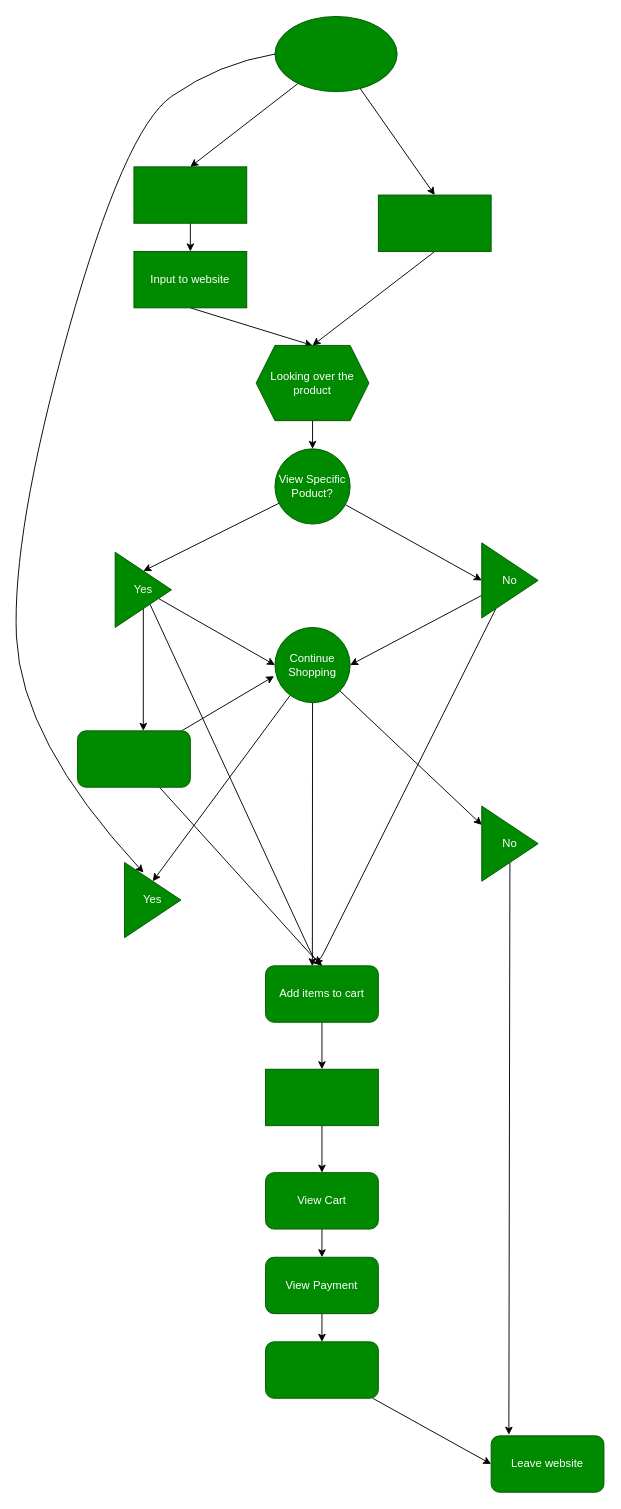
Image size: 621x1509. Some labels were removed from this diagram. Each missing label, with the centre of its shape:
"Checkout" goes at [321,1097].
"Confirmation screen and email" goes at [321,1369].
"Exploring products on home page" goes at [434,222].
"Product web page opens" goes at [133,758].
"Searching for a product" goes at [190,194].
"User enter website" goes at [335,54].
